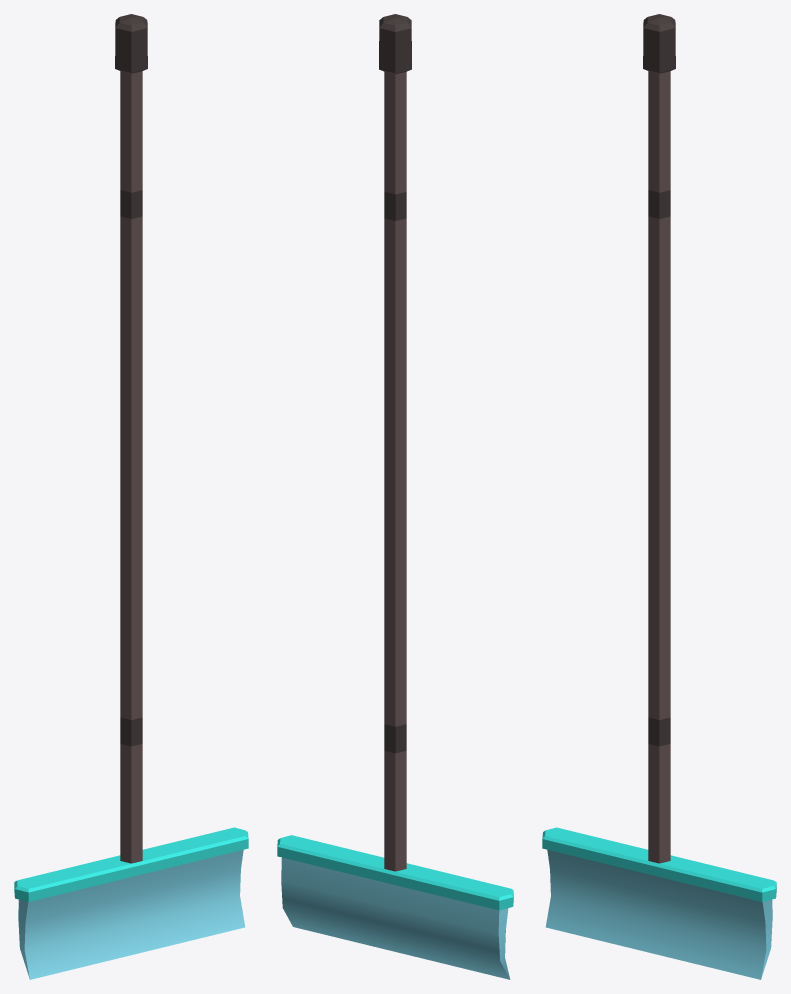
File: tool.fbx
The picture shows the model from 3 angles, left to right: view 1: azimuth 30°, elevation 25°; view 2: azimuth 150°, elevation 25°; view 3: azimuth 330°, elevation 25°; orthographic projection.
Parts seen in each view (by area): view 1: tool; view 2: tool; view 3: tool.
Part boxes in pixels (bbox=[...]): tool: bbox=[14, 14, 248, 979]; tool: bbox=[277, 14, 513, 979]; tool: bbox=[542, 14, 776, 979].
Size of the model in its own units: 133 by 509 by 16.24.
